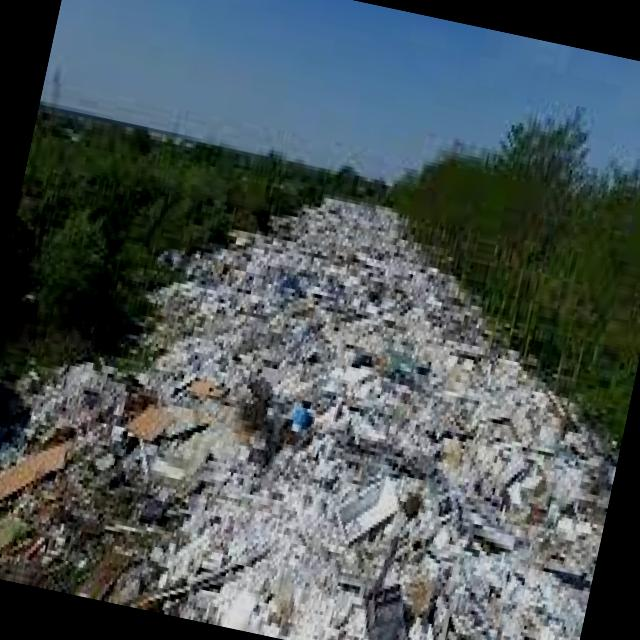garbage: (19, 129, 640, 640)
